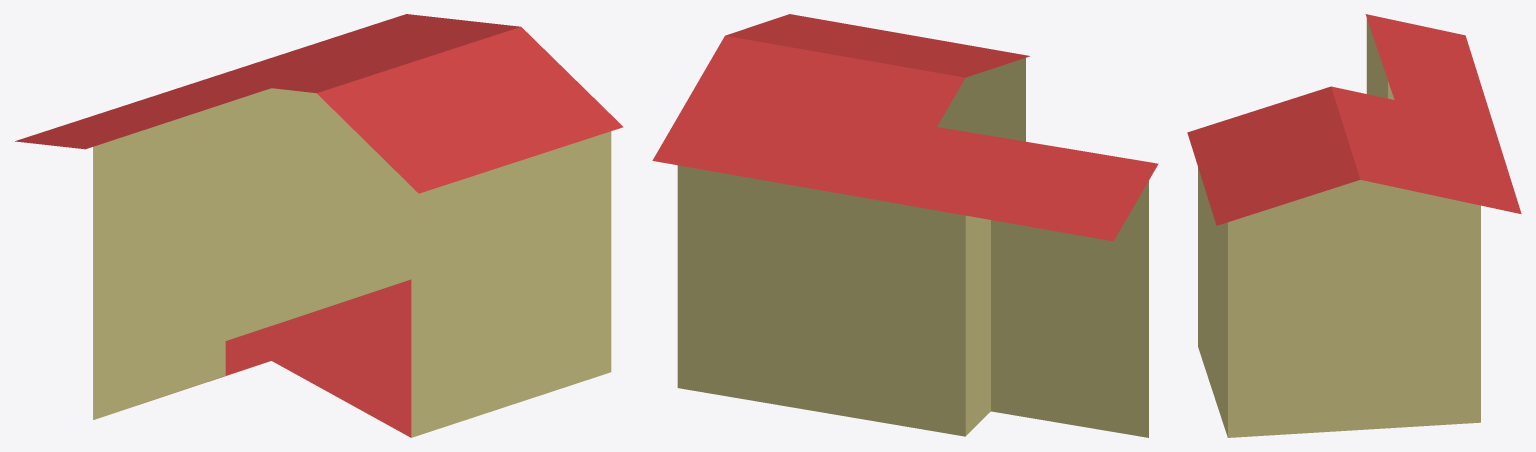
The picture shows the model from 3 angles, left to right: view 1: azimuth 30°, elevation 25°; view 2: azimuth 150°, elevation 25°; view 3: azimuth 270°, elevation 25°; orthographic projection. The views are drawn at different scales.
Size of the model in its own units: 12.21 by 8.8 by 7.33.
